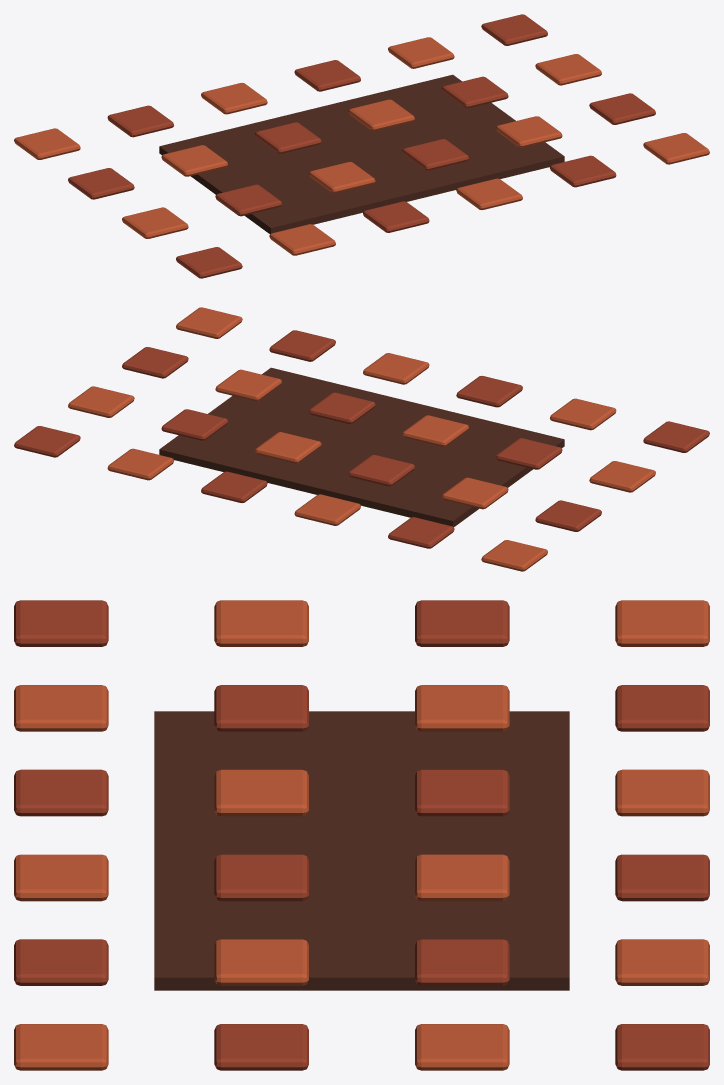
File: PR3D_Environment_FloorTerracotta.fbx
3 renders of one model, top to bottom at view 1: azimuth 30°, elevation 25°; view 2: azimuth 150°, elevation 25°; view 3: azimuth 270°, elevation 25°, orthographic. The views are drawn at different scales.
Visible parts, largest first — view 1: Visual_FloorBacking, Visual_FloorTile_00_05, Visual_FloorTile_03_00, Visual_FloorTile_00_00, Visual_FloorTile_01_05, Visual_FloorTile_02_00, Visual_FloorTile_03_05, Visual_FloorTile_00_04, Visual_FloorTile_01_01, Visual_FloorTile_02_04, Visual_FloorTile_03_01, Visual_FloorTile_00_01 (+13 smaller); view 2: Visual_FloorBacking, Visual_FloorTile_00_00, Visual_FloorTile_03_05, Visual_FloorTile_00_05, Visual_FloorTile_01_00, Visual_FloorTile_02_05, Visual_FloorTile_03_00, Visual_FloorTile_00_01, Visual_FloorTile_01_04, Visual_FloorTile_02_01, Visual_FloorTile_03_04, Visual_FloorTile_00_03 (+13 smaller); view 3: Visual_FloorBacking, Visual_FloorTile_00_02, Visual_FloorTile_00_03, Visual_FloorTile_01_02, Visual_FloorTile_01_03, Visual_FloorTile_02_02, Visual_FloorTile_02_03, Visual_FloorTile_03_02, Visual_FloorTile_03_03, Visual_FloorTile_00_00, Visual_FloorTile_00_05, Visual_FloorTile_01_01 (+13 smaller).
Part boxes in pixels (x1=…): Visual_FloorBacking: x1=159, y1=74, x2=564, y2=233; Visual_FloorTile_00_05: x1=643, y1=133, x2=709, y2=164; Visual_FloorTile_03_00: x1=14, y1=128, x2=80, y2=159; Visual_FloorTile_00_00: x1=176, y1=247, x2=242, y2=278; Visual_FloorTile_01_05: x1=589, y1=93, x2=655, y2=124; Visual_FloorTile_02_00: x1=68, y1=168, x2=134, y2=199; Visual_FloorTile_03_05: x1=481, y1=14, x2=547, y2=45; Visual_FloorTile_00_04: x1=550, y1=155, x2=616, y2=187; Visual_FloorTile_01_01: x1=215, y1=184, x2=281, y2=216; Visual_FloorTile_02_04: x1=442, y1=76, x2=508, y2=108; Visual_FloorTile_03_01: x1=107, y1=105, x2=173, y2=137; Visual_FloorTile_00_01: x1=269, y1=224, x2=335, y2=255; Visual_FloorBacking: x1=159, y1=367, x2=564, y2=526; Visual_FloorTile_00_00: x1=643, y1=421, x2=709, y2=452; Visual_FloorTile_03_05: x1=14, y1=426, x2=80, y2=457; Visual_FloorTile_00_05: x1=176, y1=307, x2=242, y2=338; Visual_FloorTile_01_00: x1=589, y1=461, x2=655, y2=492; Visual_FloorTile_02_05: x1=68, y1=386, x2=134, y2=417; Visual_FloorTile_03_00: x1=481, y1=540, x2=547, y2=571; Visual_FloorTile_00_01: x1=550, y1=398, x2=616, y2=430; Visual_FloorTile_01_04: x1=215, y1=369, x2=281, y2=401; Visual_FloorTile_02_01: x1=442, y1=477, x2=508, y2=509; Visual_FloorTile_03_04: x1=107, y1=448, x2=173, y2=480; Visual_FloorTile_00_03: x1=363, y1=353, x2=429, y2=384; Visual_FloorBacking: x1=154, y1=711, x2=569, y2=990; Visual_FloorTile_00_02: x1=14, y1=769, x2=108, y2=816; Visual_FloorTile_00_03: x1=14, y1=854, x2=108, y2=901; Visual_FloorTile_01_02: x1=214, y1=769, x2=308, y2=816; Visual_FloorTile_01_03: x1=214, y1=854, x2=308, y2=901; Visual_FloorTile_02_02: x1=415, y1=769, x2=509, y2=816; Visual_FloorTile_02_03: x1=415, y1=854, x2=509, y2=901; Visual_FloorTile_03_02: x1=615, y1=769, x2=709, y2=816; Visual_FloorTile_03_03: x1=615, y1=854, x2=709, y2=901; Visual_FloorTile_00_00: x1=14, y1=600, x2=108, y2=646; Visual_FloorTile_00_05: x1=14, y1=1024, x2=108, y2=1070; Visual_FloorTile_01_01: x1=214, y1=685, x2=308, y2=731.
Size of the model in its own units: 3.83 by 0.1075 by 2.43.
